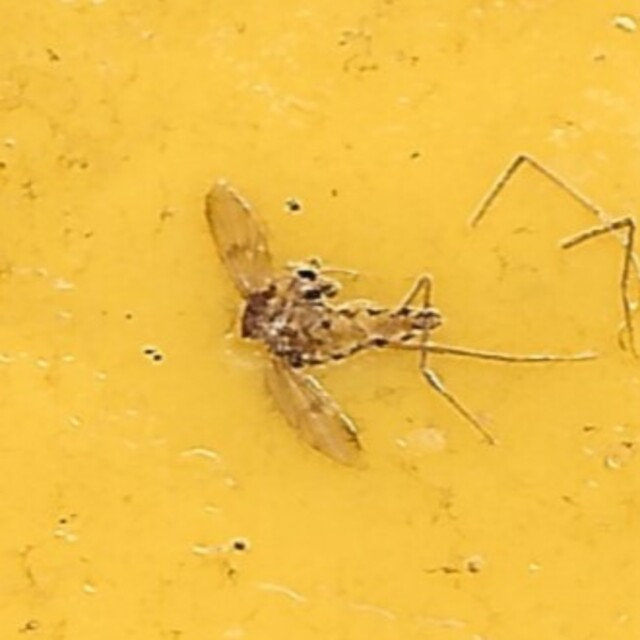Nematocera: (194, 177, 446, 463)
